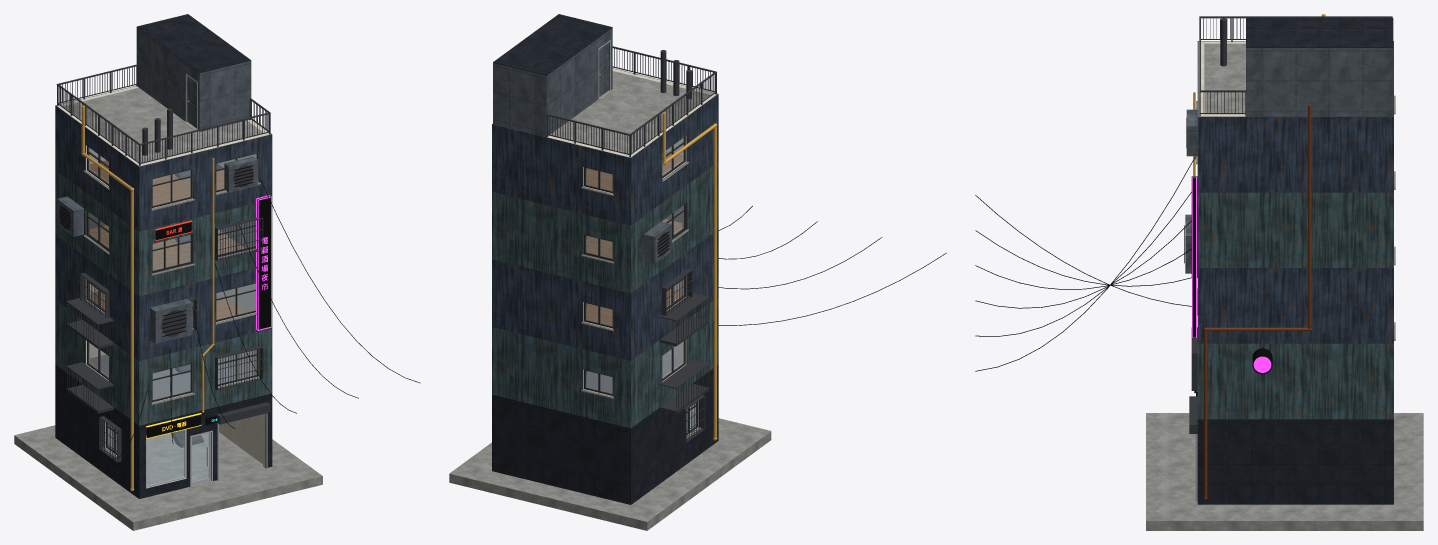
The model's file is b_tower_cyber_narrow.gltf.
3 renders of one model, left to right at view 1: azimuth 30°, elevation 25°; view 2: azimuth 150°, elevation 25°; view 3: azimuth 270°, elevation 25°, orthographic. The views are drawn at different scales.
Parts seen in each view (by area): view 1: S_tower_cyber_narrow, D_tower_cyber_narrow_F1_S1_Door0; view 2: S_tower_cyber_narrow; view 3: S_tower_cyber_narrow.
Boxes of the visible parts, x1,y1,x2,y2 form: S_tower_cyber_narrow: (14, 14, 420, 530); D_tower_cyber_narrow_F1_S1_Door0: (191, 432, 210, 484); S_tower_cyber_narrow: (449, 14, 946, 530); S_tower_cyber_narrow: (975, 14, 1423, 530).
Size of the model in its own units: 15.02 by 18.55 by 16.14.
29 materials, 14 textured.
